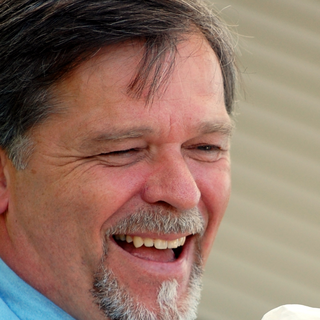eye: (181, 136, 228, 161)
